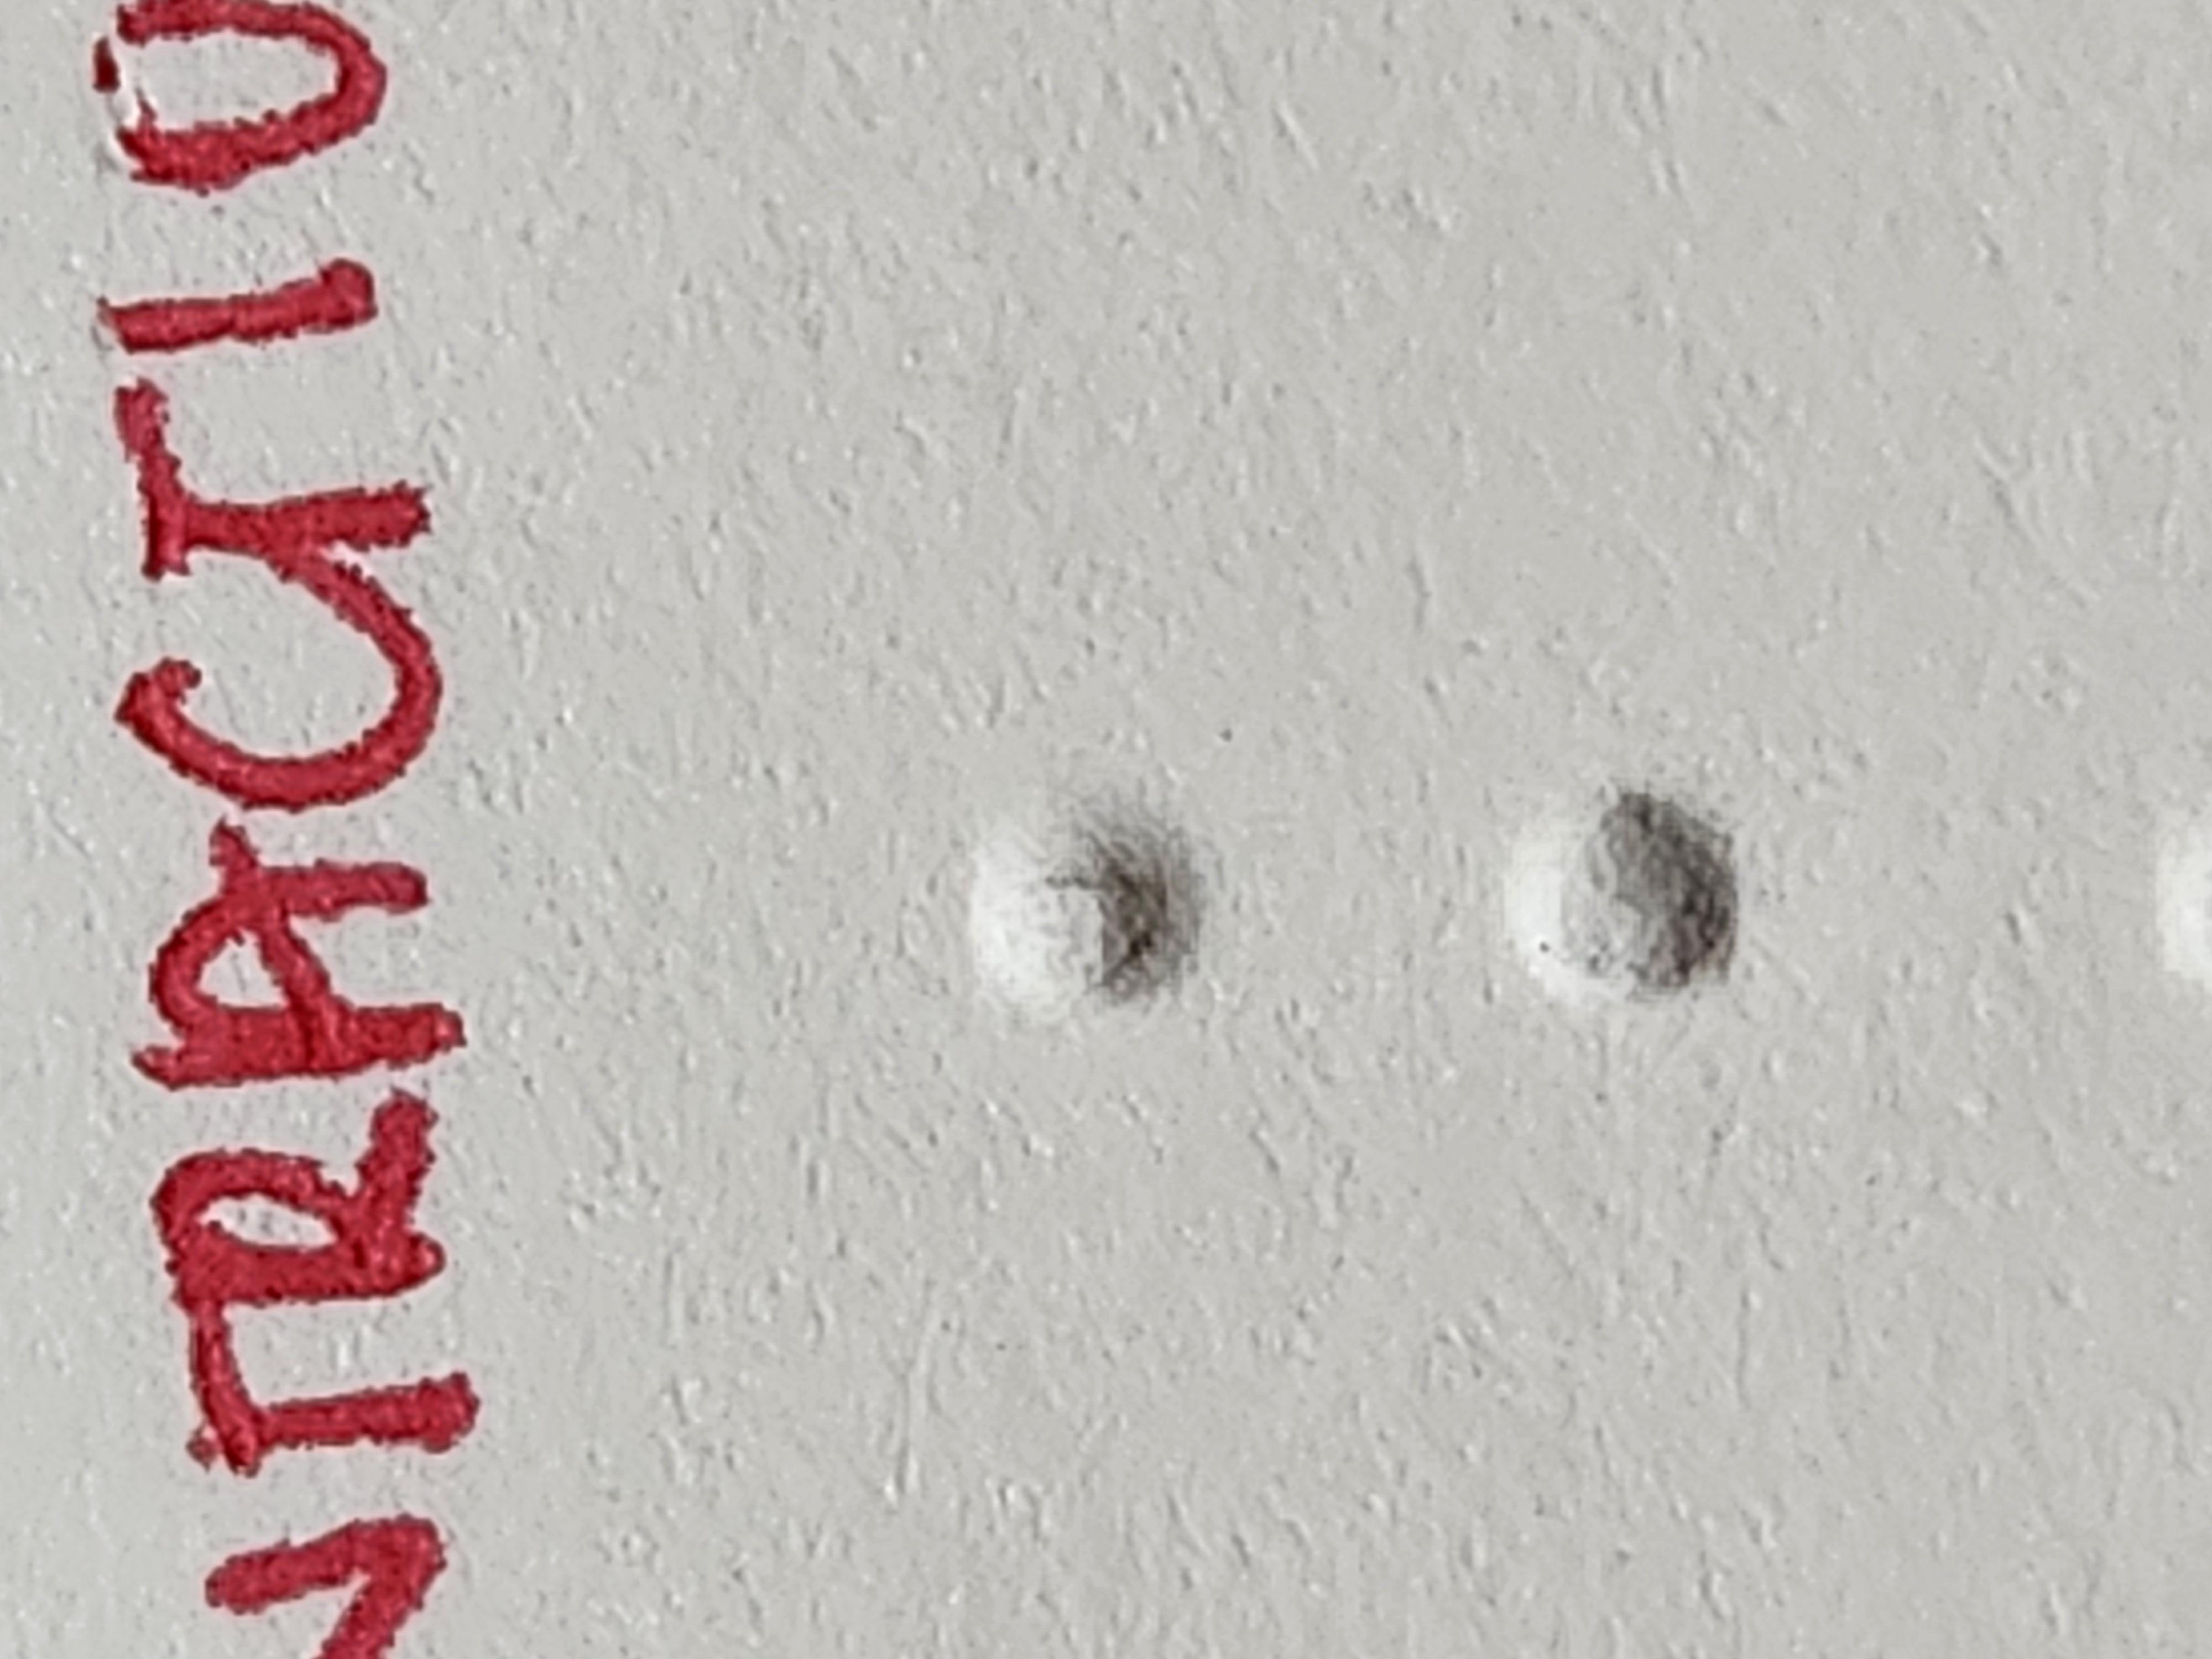one_cell_alphabet_kaya: (834, 727, 1500, 1300)
